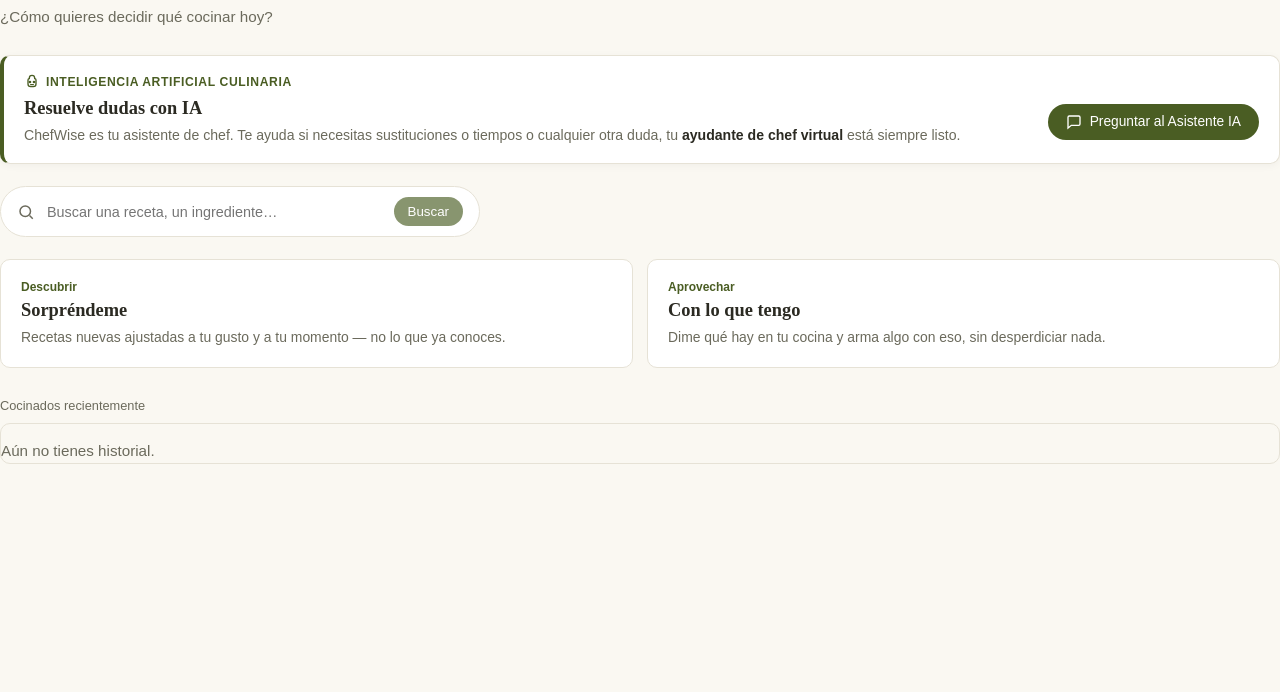
Test case: HomeComponent (búsqueda del catálogo) › con más de cinco coincidencias "Ver más recetas" agrega las siguientes
Type "tacos" into the field with placeholder "Buscar una receta, un ingrediente…" at (214, 212), box x1=45 y1=203 x2=384 y2=221
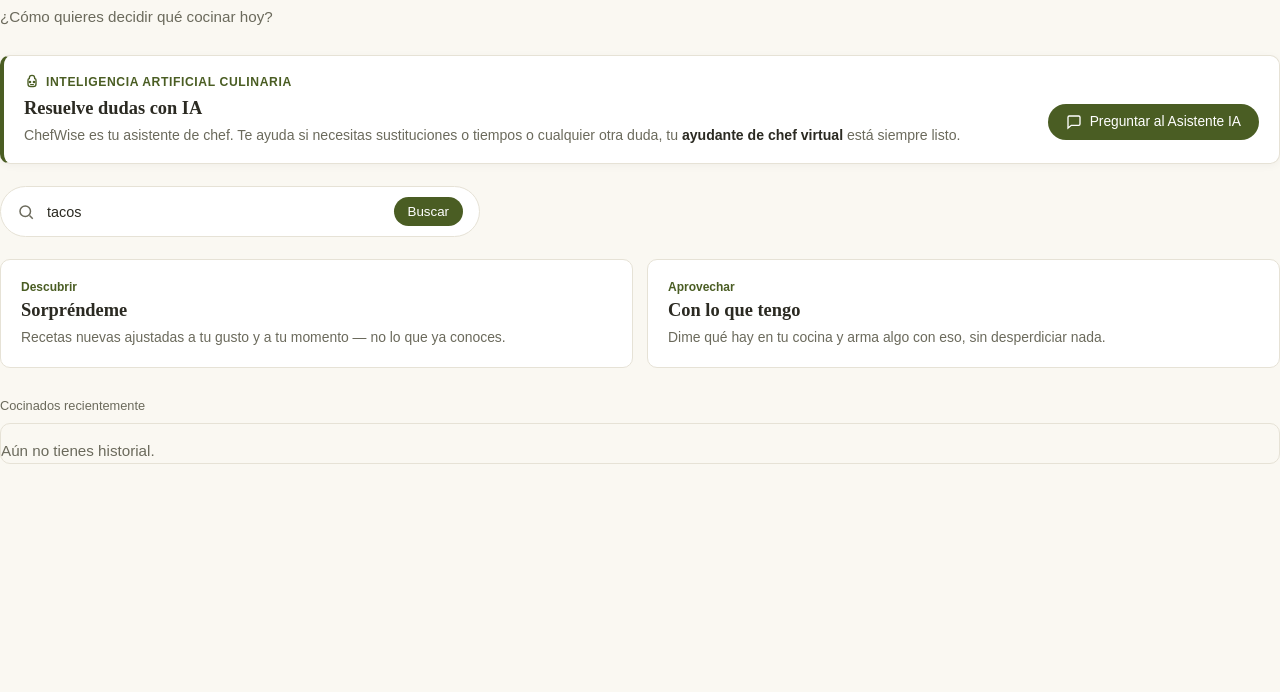
Click the button with class "search-button" at (428, 212), box x1=394 y1=197 x2=463 y2=226
(page scrolled)
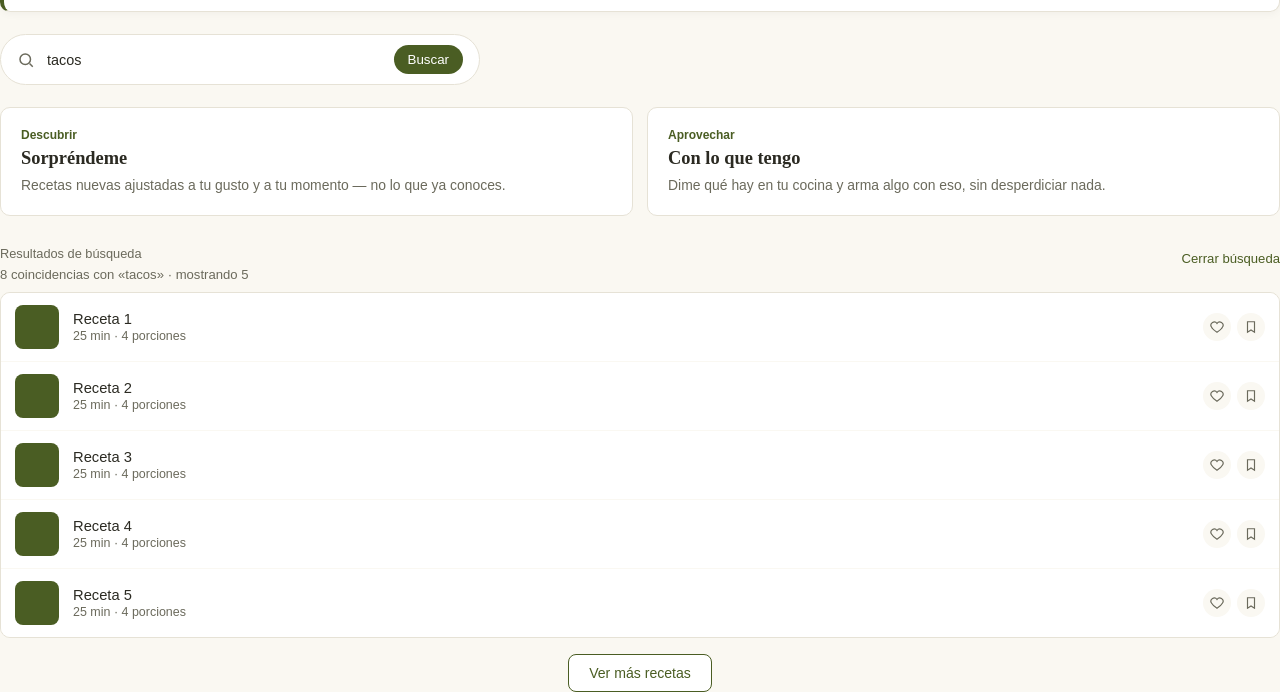
Expected: the button with class "more-btn" reads "Ver más recetas"
Click the button with class "more-btn" at (640, 673), box x1=568 y1=654 x2=712 y2=691
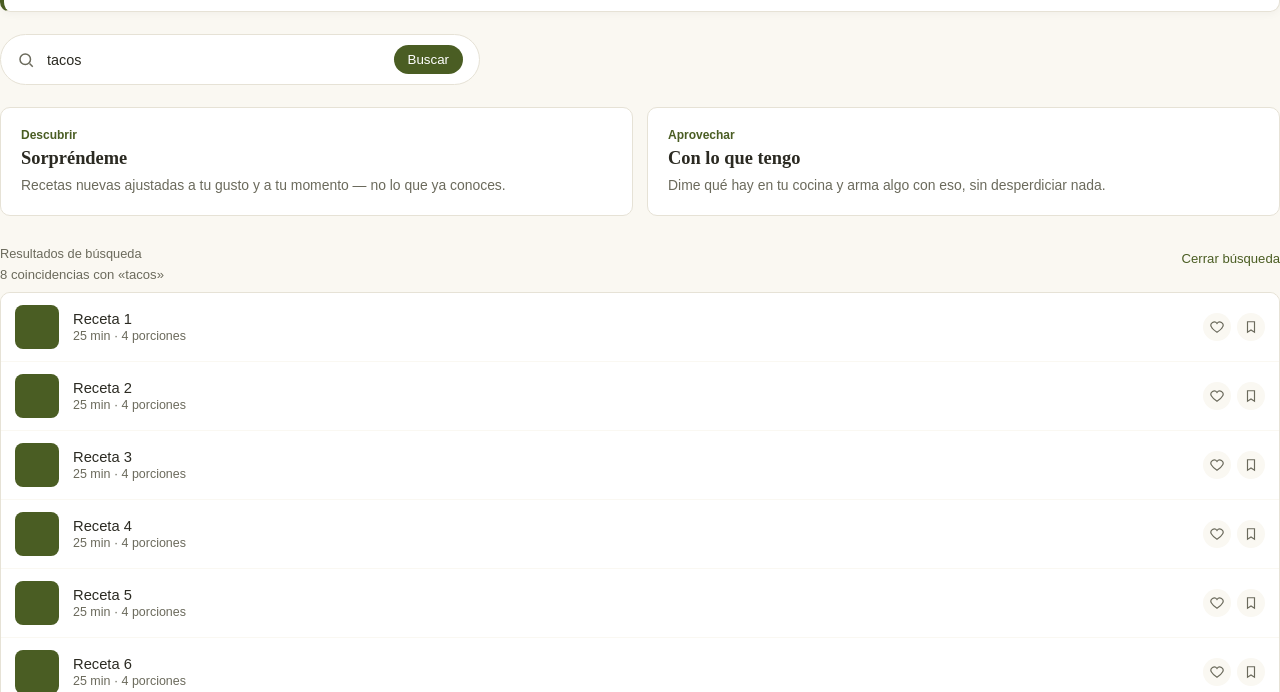
Expected: the number of links with class "recipe-item" is 8
Expected: the button with class "more-btn" is gone
